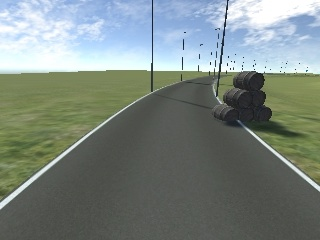strange_object: (211, 65, 272, 124)
